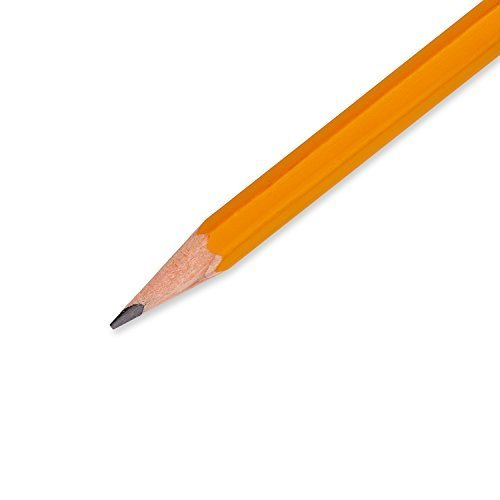pen_tip: (87, 197, 252, 350)
